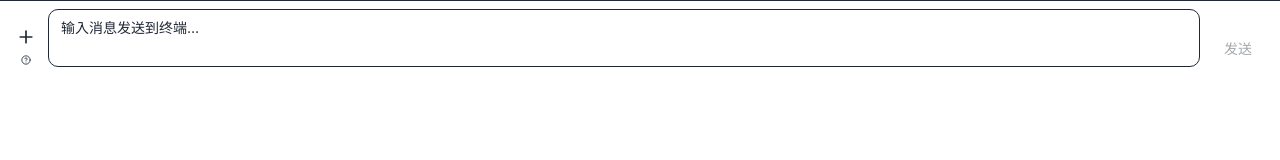
Test: CodexSendFlow：NotSent 重试关联与运输重试（S5） › not_sent_retry_links_new_action：明确 NotSent（queue_paused）→ 保留草稿 + 理由文案 + 重试创建关联的新动作（不重放原失败）
Type "排队期间的意见" into the text box with test id "composer-input" at (624, 38), box [48,9,1200,67]
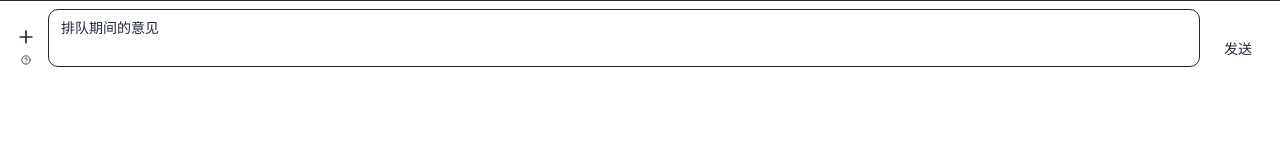
Click the button with test id "composer-send" at (1238, 49), box [1208,31,1268,67]
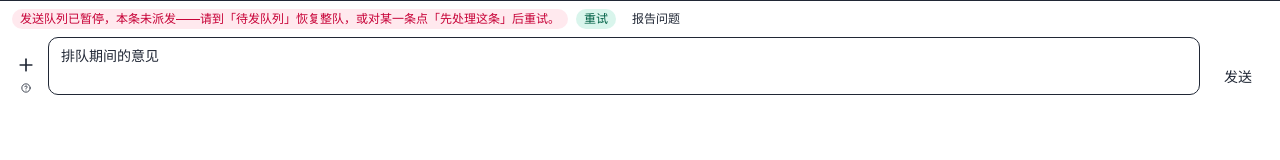
Check: the text with test id "send-receipt-codex-failed" shows "队列已暂停", box [20,11,560,26]
Check: the button with test id "codex-retry-notsent" is shown
Check: the button with test id "codex-report-notsent" is shown, box [624,9,688,29]
Click the button with test id "codex-retry-notsent" at (596, 19), box [576,9,616,29]
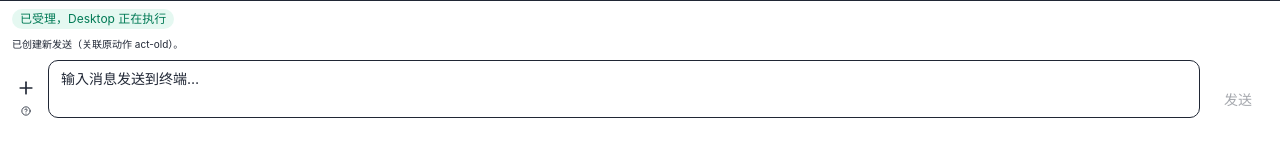
Check: the text with test id "send-receipt-codex-accepted" shows "已受理", box [20,11,166,26]
Check: the text with test id "codex-retried-from" shows "act-old", box [12,38,183,50]
